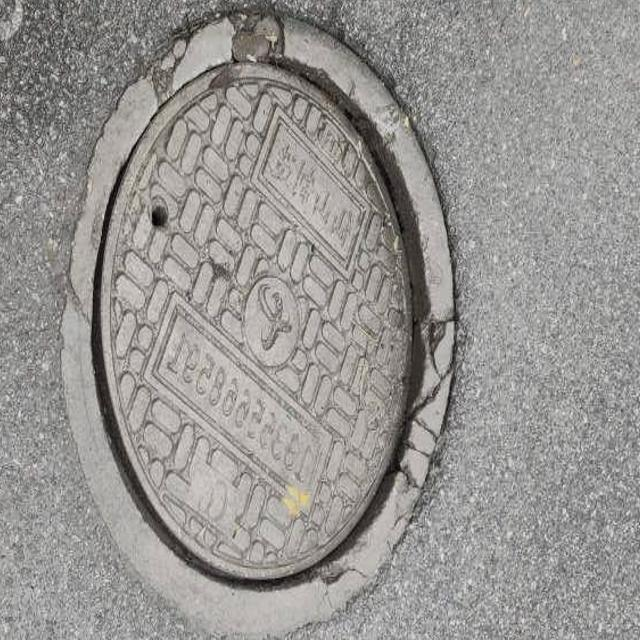circle: (36, 7, 511, 632)
